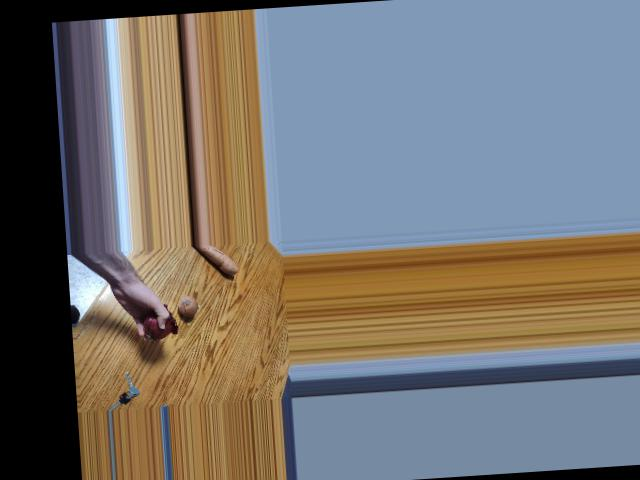onion: (144, 313, 172, 340)
